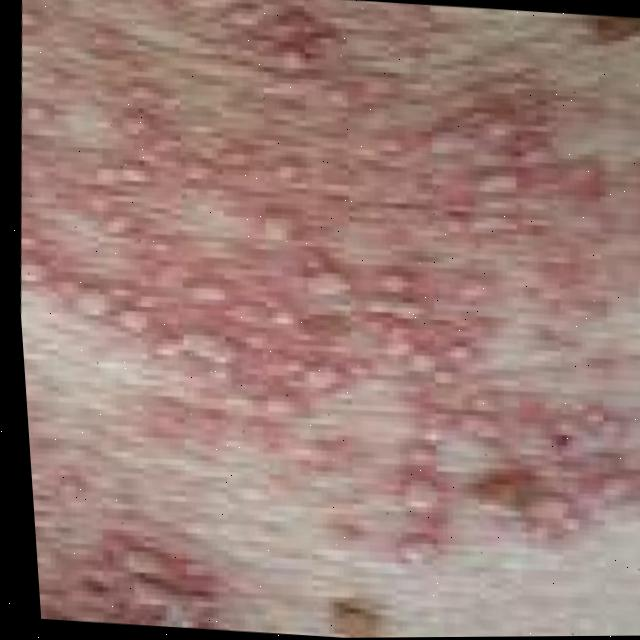Shingles: (1, 16, 640, 582)
